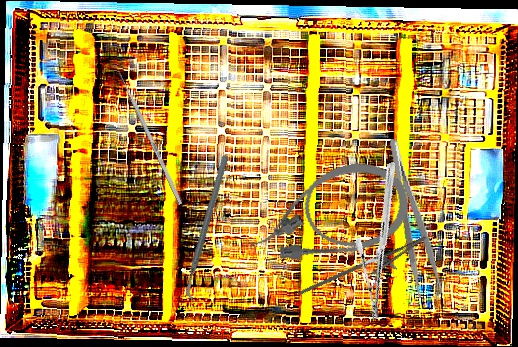Cannula: (238, 153, 418, 274)
Chopper: (136, 152, 280, 305)
Dressing Forceps: (385, 135, 444, 299)
Needle Holder: (318, 161, 448, 321), (297, 220, 433, 320)
Pusher: (112, 61, 184, 206)
